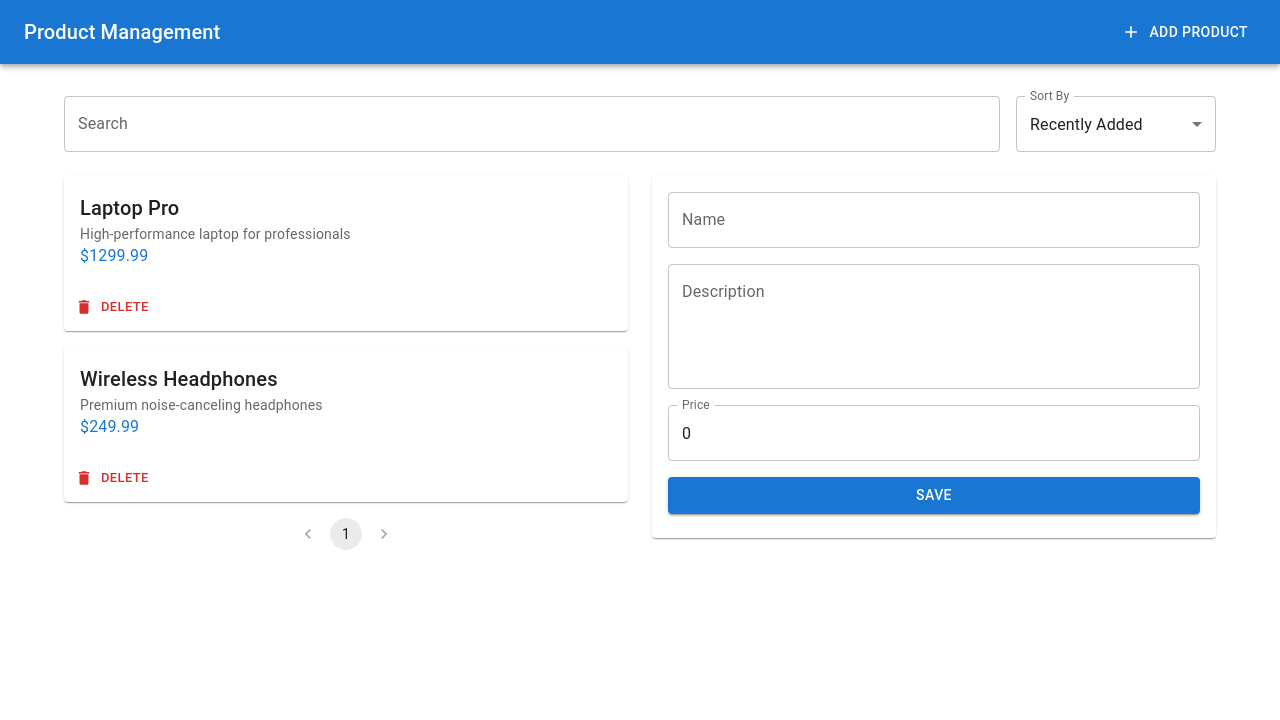
Product Management App › can add a new product
The image size is (1280, 720).
Click the button "Add Product": {"x": 1187, "y": 33} top-left (1117, 14), bottom-right (1256, 51)
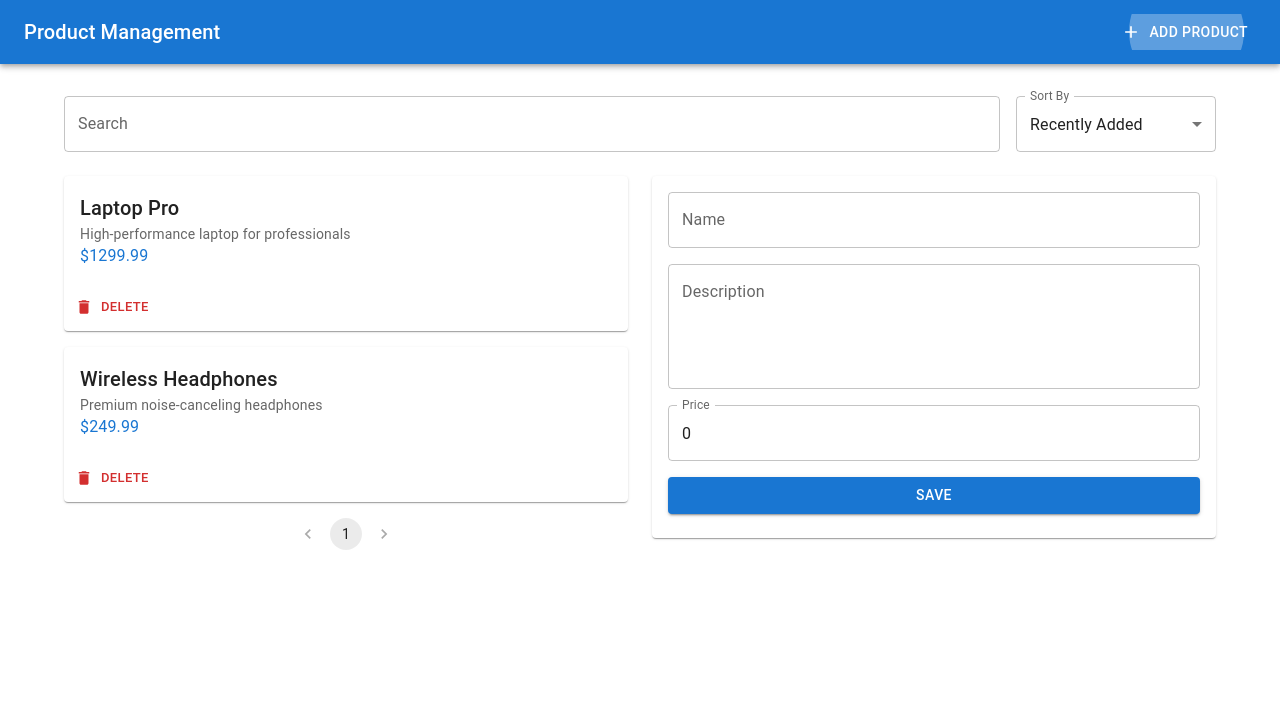
In the field named "name": {"x": 934, "y": 220} top-left (668, 192), bottom-right (1200, 248), type "Test Product"
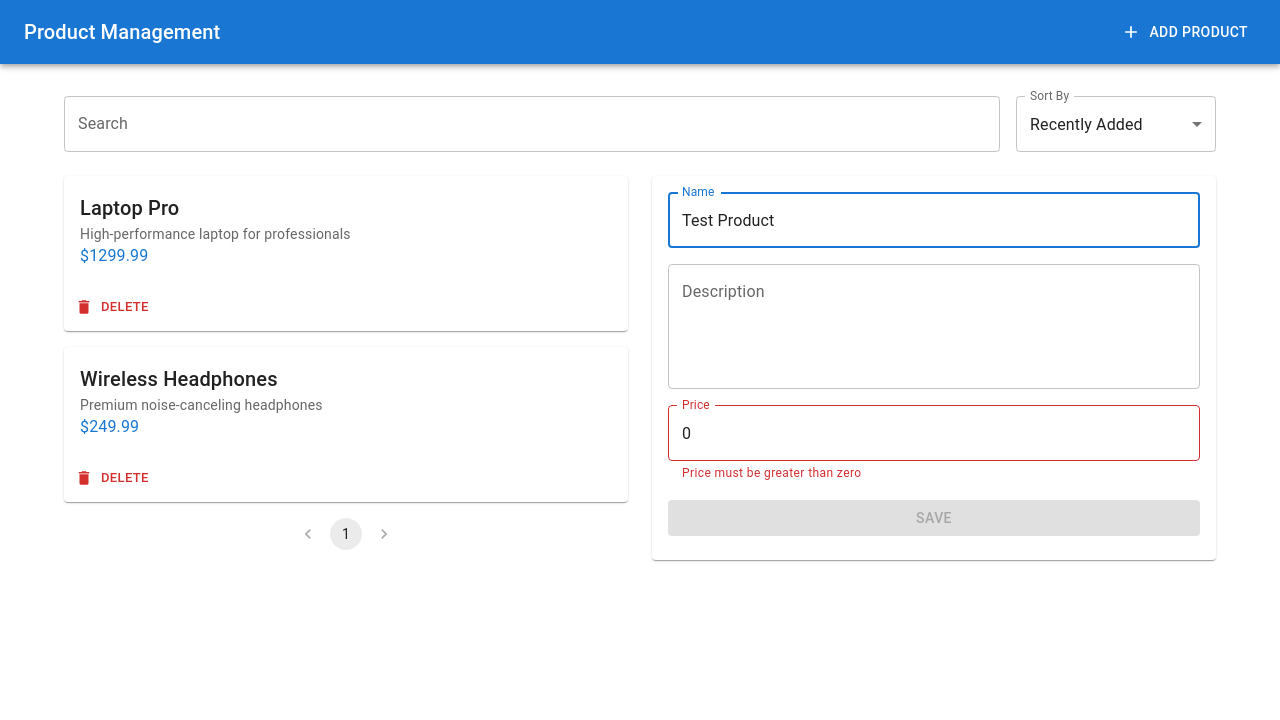
In the number field named "price": {"x": 934, "y": 433} top-left (668, 405), bottom-right (1200, 461), type "99.99"
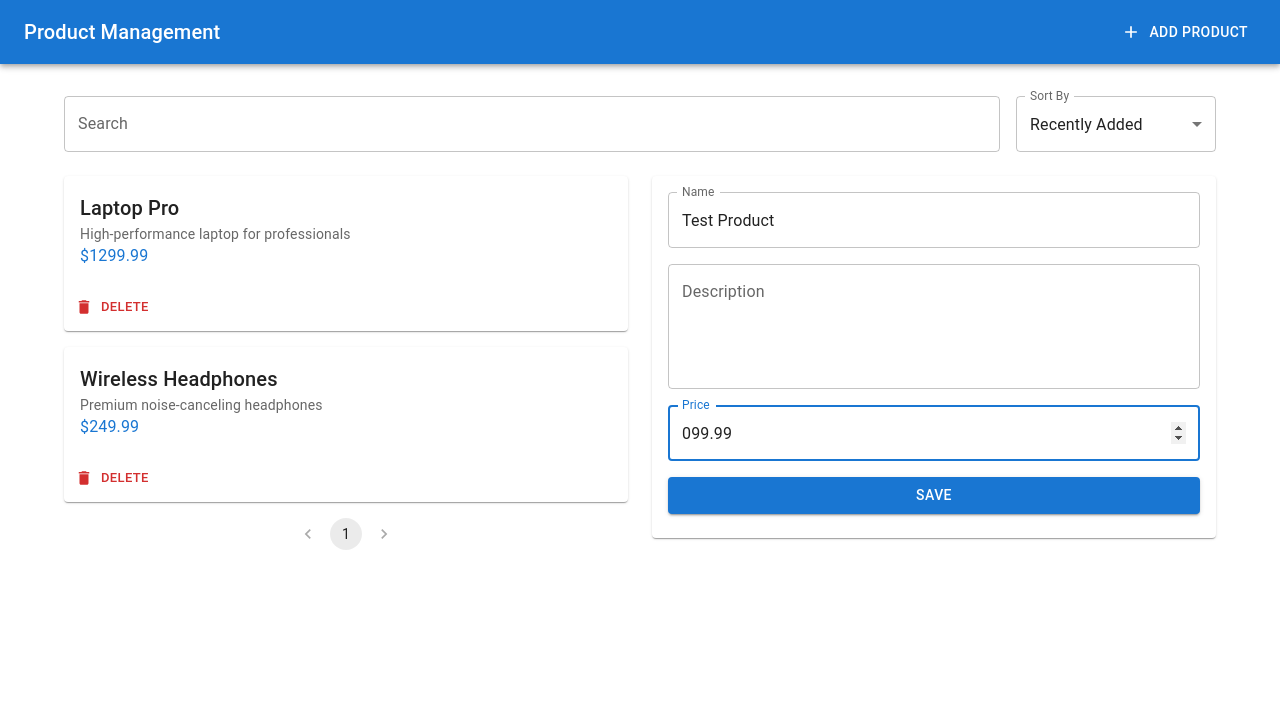
Click the button "Save": {"x": 934, "y": 496} top-left (668, 477), bottom-right (1200, 514)
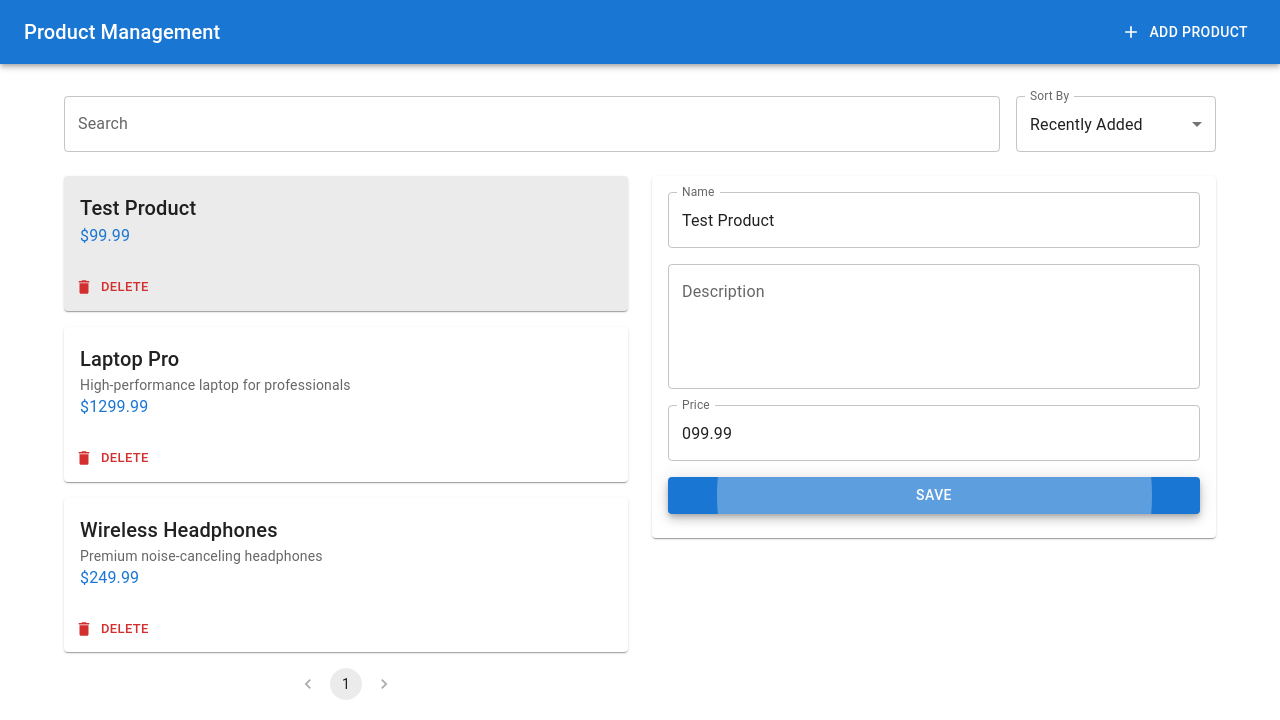
Expected: the text "Test Product" is shown, top-left (80, 196), bottom-right (196, 220)
